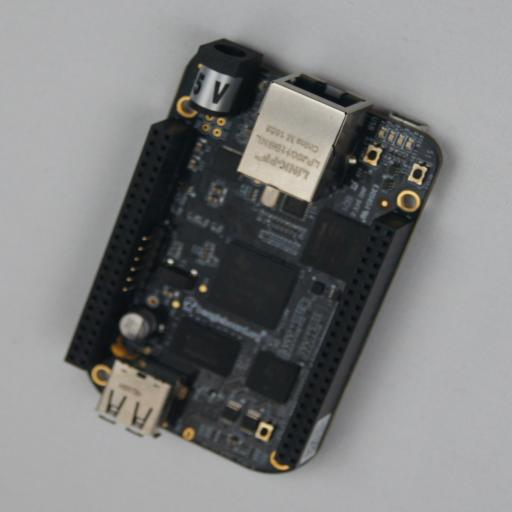Beaglebone Black: (65, 38, 443, 474)
